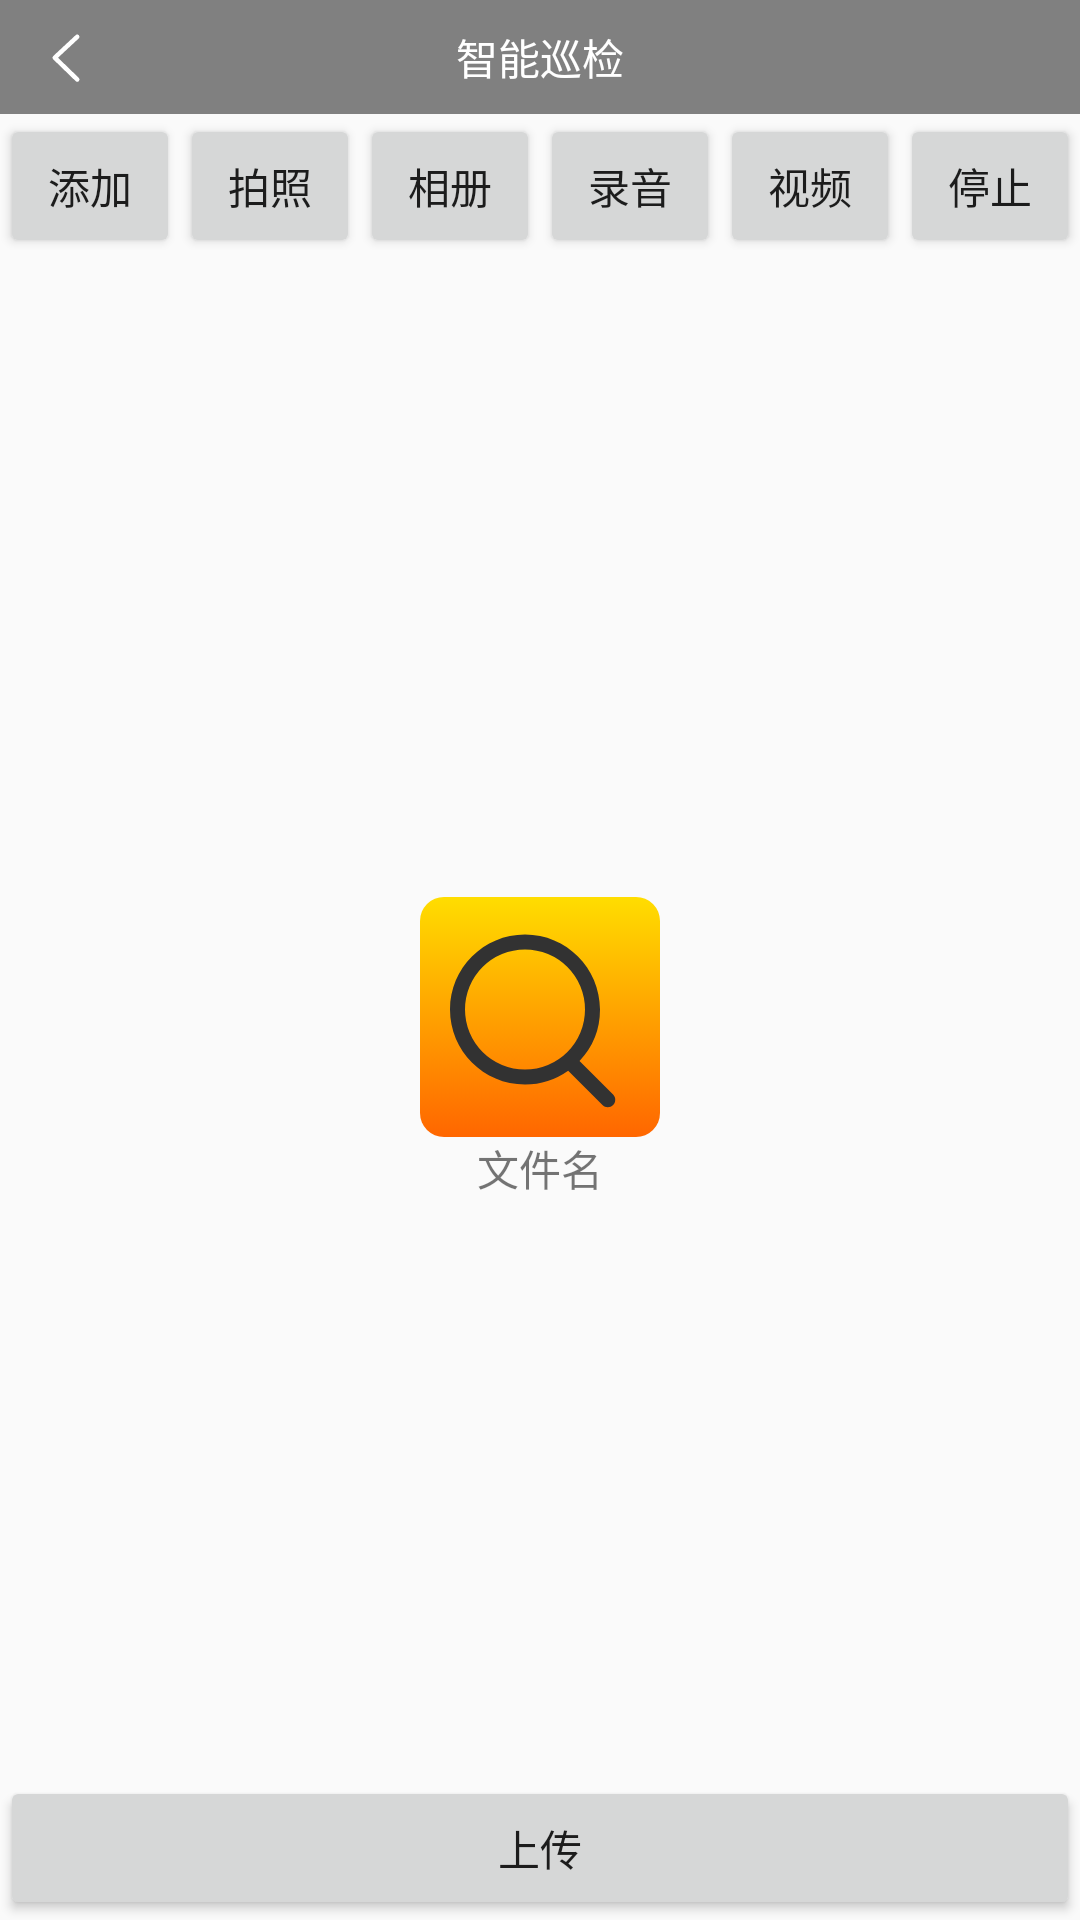

Icon click points for this 1080px x 1920px phone screenshot, format (x,y):
return imageview: (66,58)
search: (540,1017)
